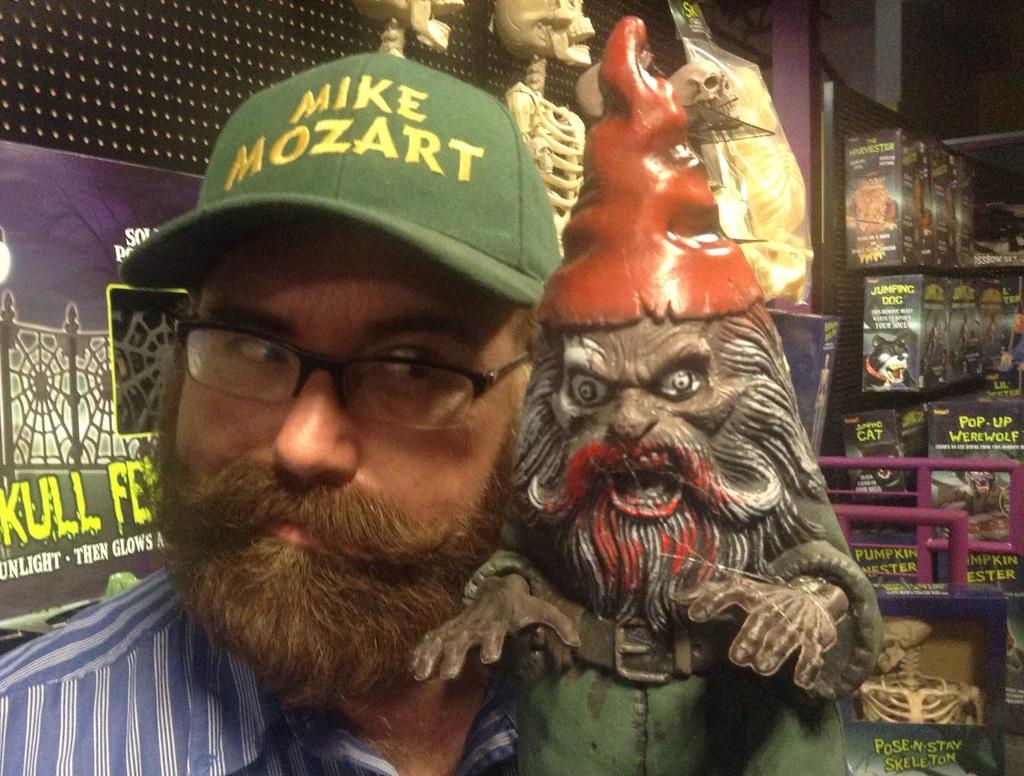Hat: (118, 46, 560, 304)
